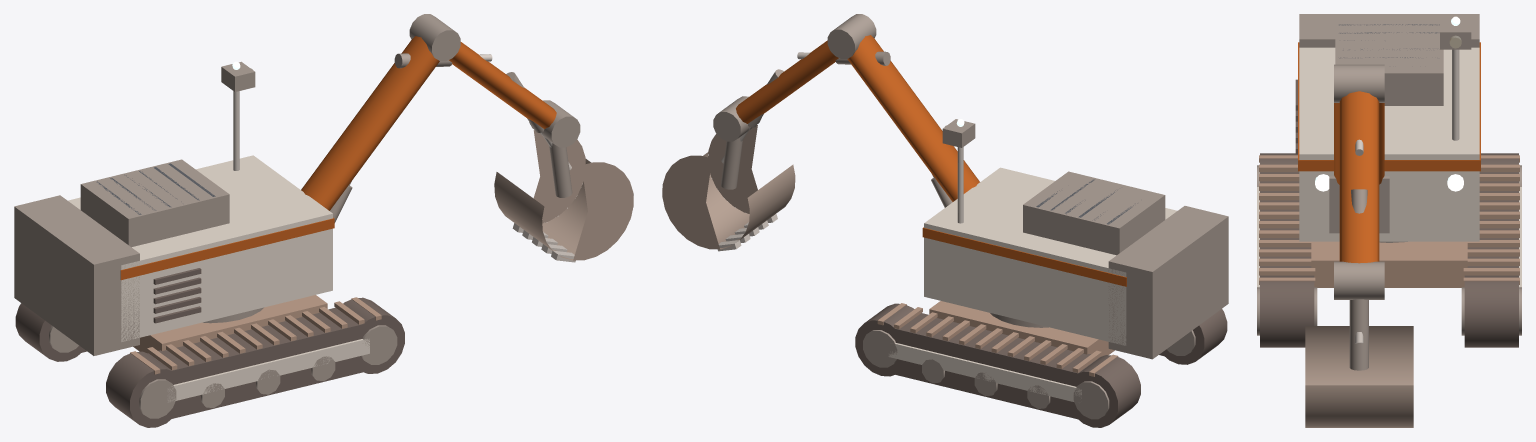
The model's file is V03_regolith_excavator.glb.
The picture shows the model from 3 angles, left to right: view 1: azimuth 30°, elevation 25°; view 2: azimuth 150°, elevation 25°; view 3: azimuth 270°, elevation 25°; orthographic projection. The views are drawn at different scales.
Parts seen in each view (by area): view 1: housing, counterweight, bucket, battery_pack, track_belt, boom, track_end (×3), track_frame, undercarriage, stick, pivot (×2), housing_stripe (+3 smaller); view 2: housing, counterweight, bucket, battery_pack, track_belt, boom, track_end (×3), track_frame, undercarriage, stick, pivot (×2), housing_stripe (+4 smaller); view 3: housing, bucket, track_pad (×26), track_end (×4), battery_pack, stick, undercarriage, pivot (×2), track_belt (×2), counterweight, housing_stripe, bucket_link (+6 smaller).
Boxes of the visible parts, x1,y1,x2,y2 form: housing: (68,155,332,341); counterweight: (14,195,139,355); bucket: (494,130,633,260); battery_pack: (80,159,229,247); track_belt: (148,307,362,422); boom: (301,36,439,210); track_end (×3): (15,297,404,427); track_frame: (168,339,369,402); undercarriage: (133,295,327,353); stick: (449,42,556,128); pivot (×2): (409,14,580,147); housing_stripe: (120,218,334,280); housing: (924,167,1177,345); counterweight: (1108,206,1228,359); bucket: (662,125,795,249); battery_pack: (1023,171,1165,255); track_belt: (881,313,1100,422); boom: (847,35,979,201); track_end (×3): (855,303,1227,427); track_frame: (888,343,1081,401); undercarriage: (929,301,1114,356); stick: (736,40,838,123); pivot (×2): (713,14,876,141); housing_stripe: (922,227,1126,286); housing: (1299,47,1479,241); bucket: (1305,326,1413,427); track_pad (×26): (1259,164,1519,284); track_end (×4): (1260,153,1518,347); battery_pack: (1335,17,1443,105); stick: (1339,91,1379,263); undercarriage: (1311,241,1467,287); pivot (×2): (1334,64,1384,299); track_belt (×2): (1260,172,1518,267); counterweight: (1299,14,1479,47); housing_stripe: (1298,42,1480,171); bucket_link: (1349,299,1368,370).
Size of the model in its own units: 5.9 by 3.06 by 2.2.
